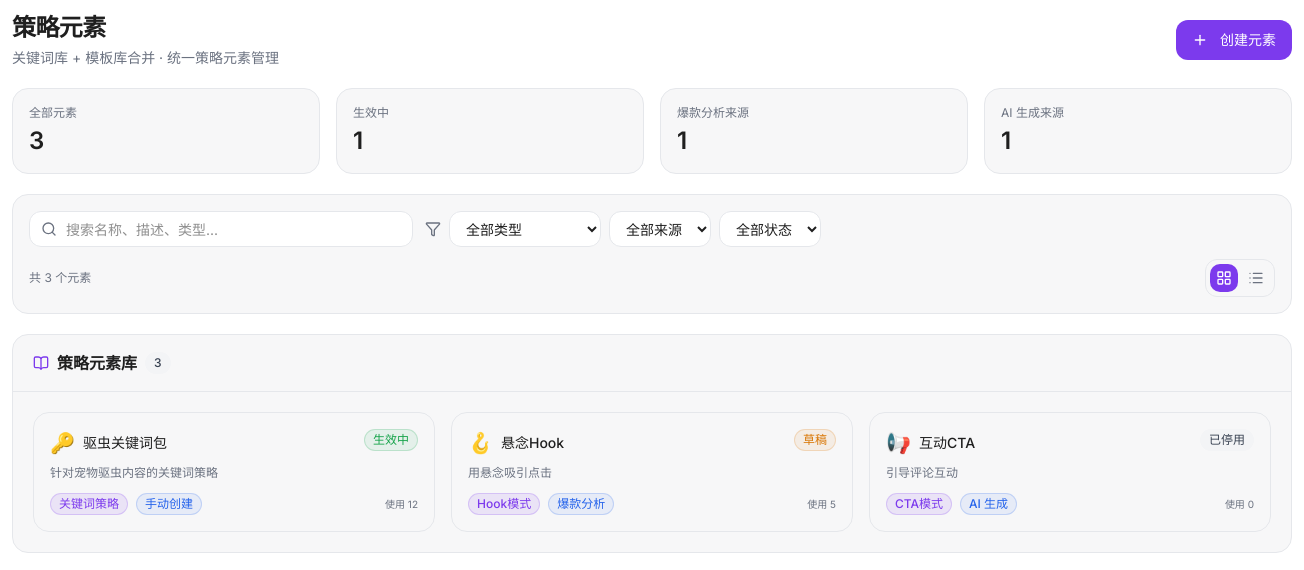
Test: StrategyElementsPage › filters by source
The image size is (1304, 570).
Select "手动创建" in the 2nd dropdown showing "全部来源" at (660, 229), box [609, 211, 711, 247]
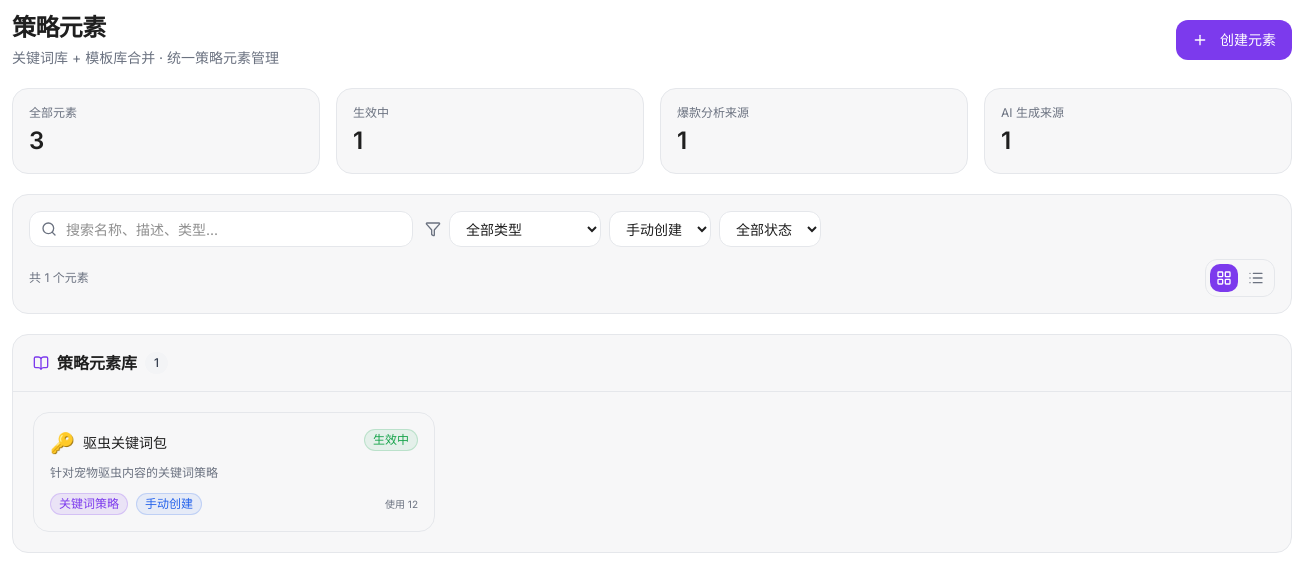
expect the heading "驱虫关键词包" is shown: met, box [83, 433, 167, 453]
expect the button "悬念Hook" is gone: met
expect the button "互动CTA" is gone: met
